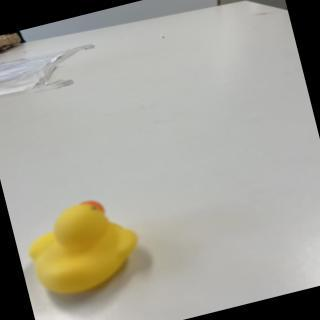duck_regular: (18, 189, 151, 305)
